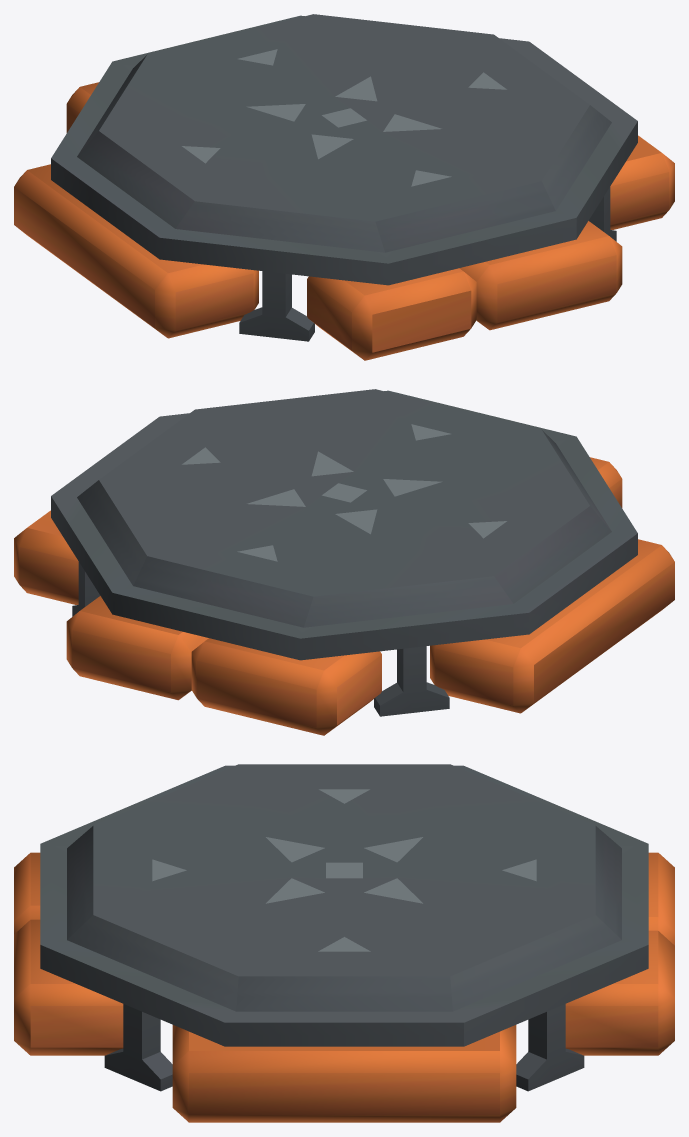
The model's file is kay-plataforma-pouso.gltf.
3 views of the same model, one above another, from view 1: azimuth 30°, elevation 25°; view 2: azimuth 150°, elevation 25°; view 3: azimuth 270°, elevation 25° (orthographic). The views are drawn at different scales.
Parts seen in each view (by area): view 1: landingpad_large; view 2: landingpad_large; view 3: landingpad_large.
Part boxes in pixels (x1,y1,x2,y2): landingpad_large: (14,14,674,360); landingpad_large: (14,389,674,735); landingpad_large: (14,764,674,1122).
Bounding box in the file's own units: 6.5 × 1.3 × 6.5.
1 material, 1 textured.
